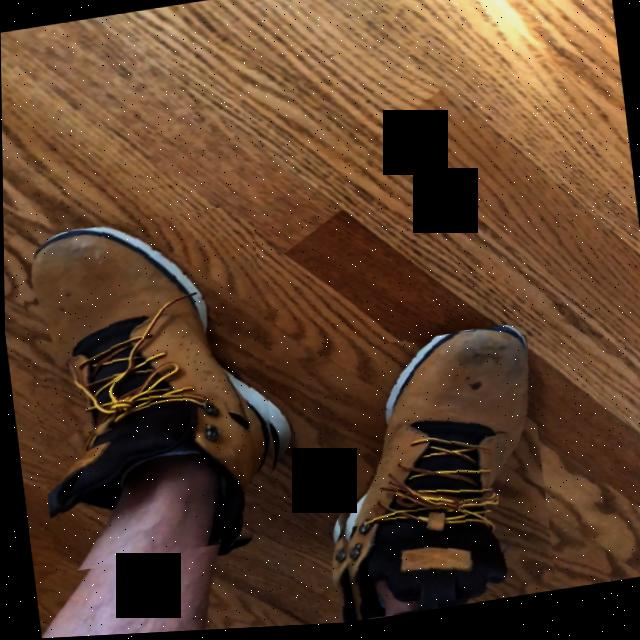shoe: (30, 228, 272, 548), (340, 331, 528, 625)
